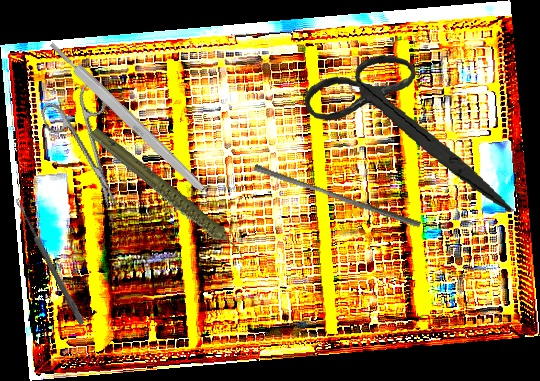Handpiece: (86, 101, 248, 290)
Iris Scissors: (297, 48, 524, 213), (37, 81, 140, 219)
Pusher: (251, 163, 424, 229)
Scalpel Handle: (46, 38, 208, 195)
Surgical Spoon: (13, 197, 86, 326)
